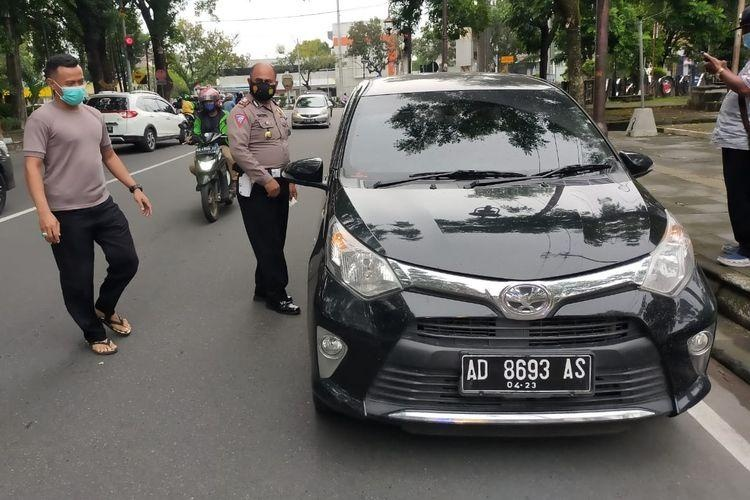plate: (464, 351, 593, 393)
